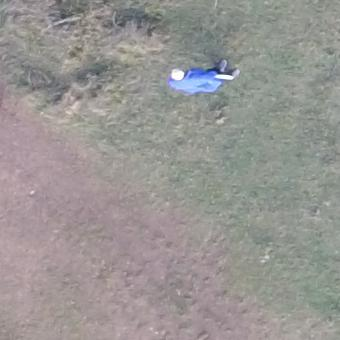human: (167, 59, 239, 96)
